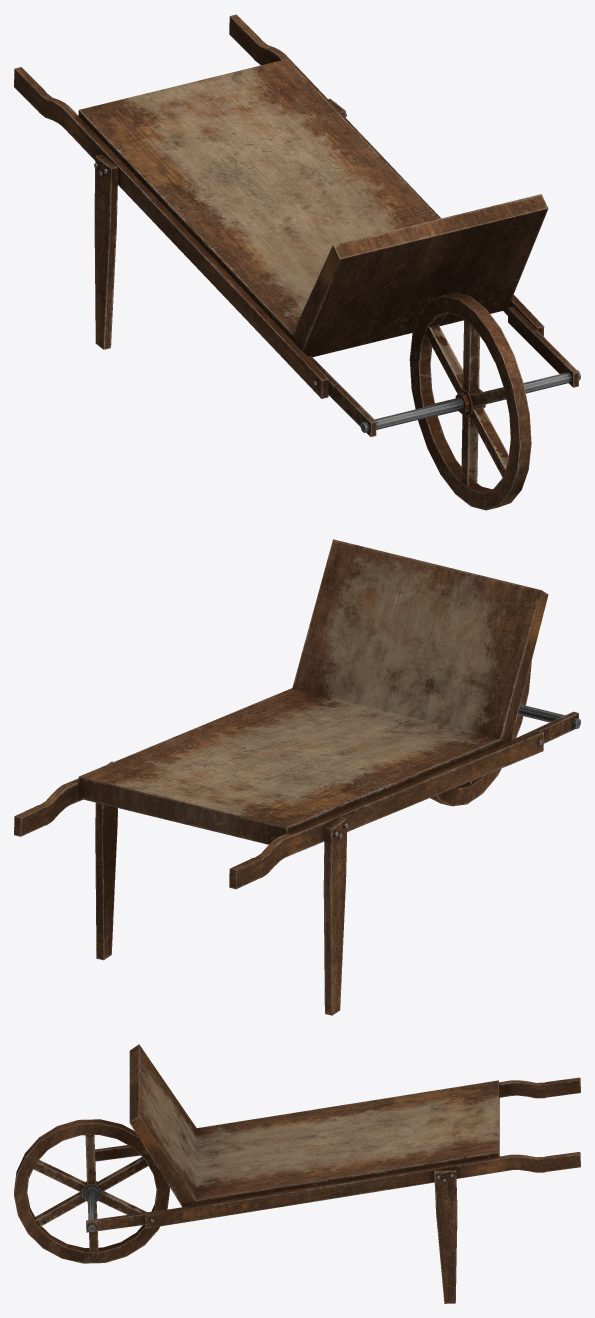
The model's file is wooden_straw_wagon_6_mb.glb.
The picture shows the model from 3 angles, top to bottom: view 1: azimuth 30°, elevation 25°; view 2: azimuth 150°, elevation 25°; view 3: azimuth 270°, elevation 25°; orthographic projection. The views are drawn at different scales.
Visible parts, largest first — view 1: 01_01_0; view 2: 01_01_0; view 3: 01_01_0.
Boxes of the visible parts, x1,y1,x2,y2 form: 01_01_0: (14, 14, 580, 510); 01_01_0: (14, 539, 580, 1015); 01_01_0: (14, 1044, 580, 1303).
Size of the model in its own units: 0.8762 by 0.9005 by 2.52.
Materials: 1 (1 with a texture image).
